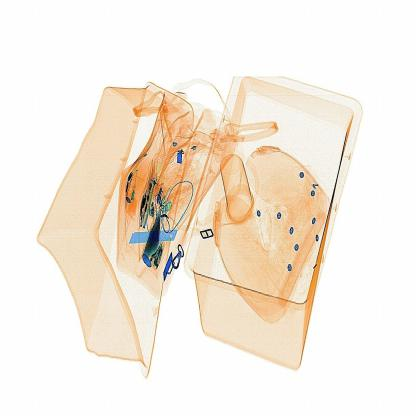pliers: (126, 226, 176, 248)
